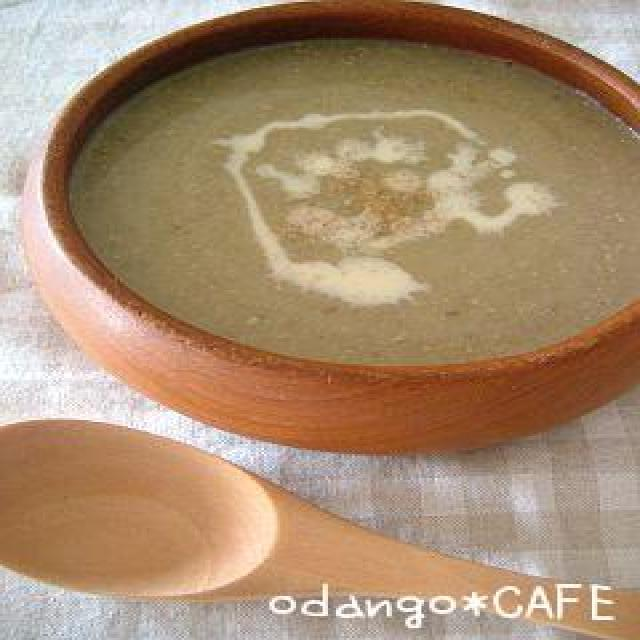汤锅炖物: (5, 0, 640, 460)
